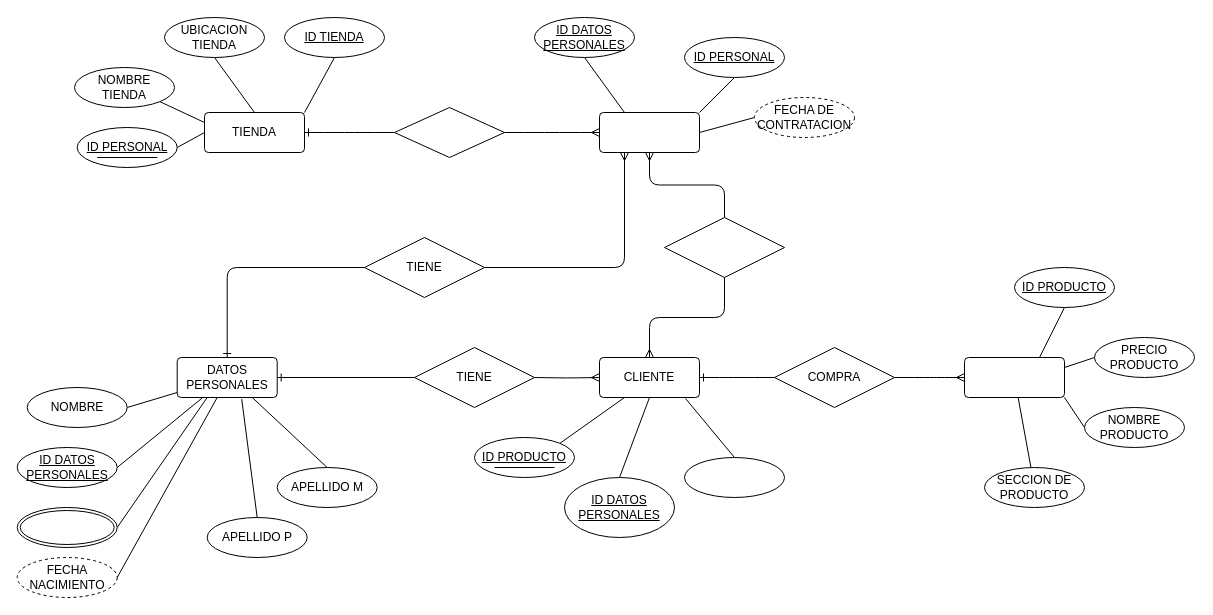
Some shapes in this 1213 by 615 pixel diagram are drawn without their labels. Here are the shapes that lost their labels. From the top down, the centre of each, then its label:
At (x=449, y=132): "CONTRATA".
At (x=649, y=132): "PERSONAL".
At (x=724, y=247): "ATIENDE".
At (x=1014, y=377): "PRODUCTO".
At (x=734, y=477): "ID CLIENTE".
At (x=66, y=527): "TELEFONO".
